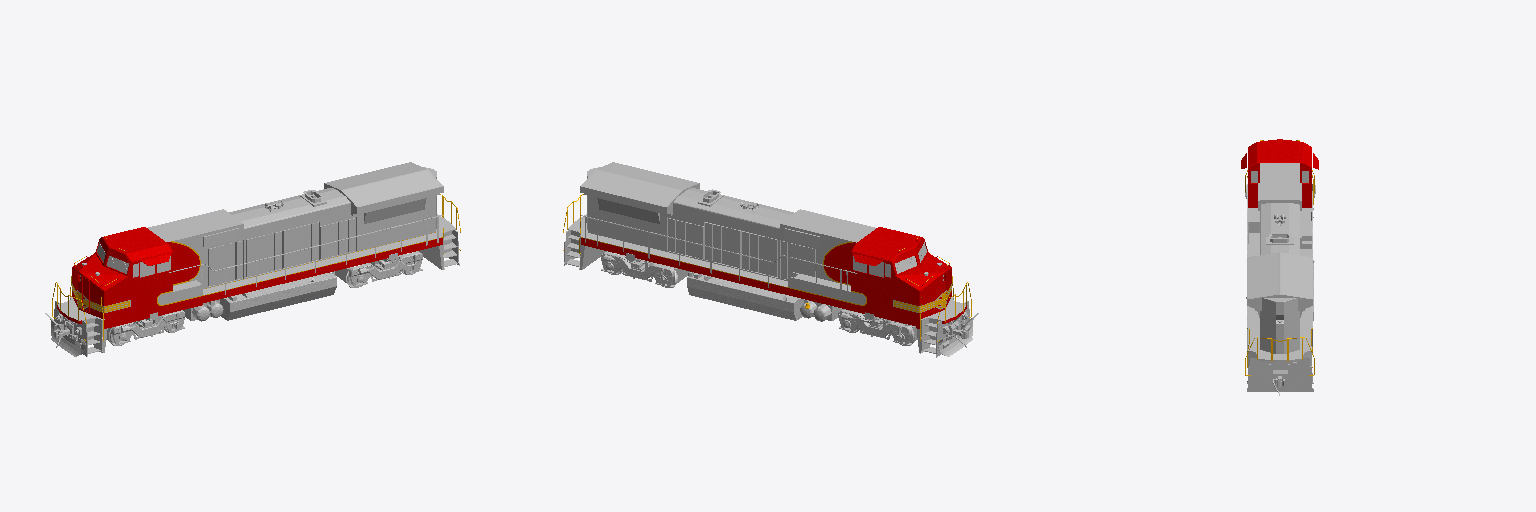
The picture shows the model from 3 angles: view 1: azimuth 30°, elevation 25°; view 2: azimuth 150°, elevation 25°; view 3: azimuth 270°, elevation 25°; orthographic projection.
Parts seen in each view (by area): view 1: SHELL_3_LONGHOOD, FRAME, SHELL_2_LONGHOOD.002, CAB, SHELL_1_LONGHOOD.001, FUEL_TANK_TANK, BOGEY_REAR_BOGIE1.001, BOGEY_FRONT_BOGIE1, rails, PLOW_ICPLOW; view 2: FRAME, SHELL_3_LONGHOOD, SHELL_2_LONGHOOD.002, CAB, SHELL_1_LONGHOOD.001, FUEL_TANK_TANK, BOGEY_REAR_BOGIE1.001, BOGEY_FRONT_BOGIE1, rails, PLOW_ICPLOW; view 3: SHELL_3_LONGHOOD, FRAME, CAB, SHELL_2_LONGHOOD.002, SHELL_1_LONGHOOD.001, rails.
Boxes of the visible parts, x1,y1,x2,y2 form: SHELL_3_LONGHOOD: [320, 162, 443, 255]; FRAME: [54, 214, 459, 356]; SHELL_2_LONGHOOD.002: [229, 190, 338, 278]; CAB: [72, 227, 172, 318]; SHELL_1_LONGHOOD.001: [148, 209, 243, 288]; FUEL_TANK_TANK: [183, 272, 336, 321]; BOGEY_REAR_BOGIE1.001: [335, 251, 422, 287]; BOGEY_FRONT_BOGIE1: [106, 310, 184, 345]; rails: [52, 194, 460, 341]; PLOW_ICPLOW: [45, 313, 85, 356]; FRAME: [564, 214, 969, 357]; SHELL_3_LONGHOOD: [580, 162, 703, 255]; SHELL_2_LONGHOOD.002: [685, 189, 793, 278]; CAB: [851, 227, 951, 318]; SHELL_1_LONGHOOD.001: [780, 209, 875, 285]; FUEL_TANK_TANK: [687, 273, 844, 321]; BOGEY_REAR_BOGIE1.001: [601, 251, 687, 287]; BOGEY_FRONT_BOGIE1: [838, 309, 917, 345]; rails: [563, 194, 971, 341]; PLOW_ICPLOW: [938, 313, 978, 356]; SHELL_3_LONGHOOD: [1247, 249, 1312, 353]; FRAME: [1247, 208, 1313, 391]; CAB: [1248, 139, 1311, 207]; SHELL_2_LONGHOOD.002: [1260, 203, 1299, 250]; SHELL_1_LONGHOOD.001: [1258, 163, 1301, 210]; rails: [1245, 170, 1314, 375].
Size of the model in its own units: 20.62 by 4.78 by 3.43.
22 materials, 11 textured.